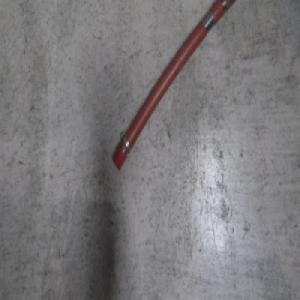Hose: (109, 0, 236, 171)
